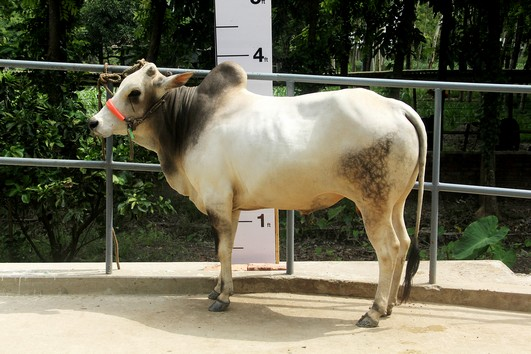cow: (82, 52, 436, 330)
